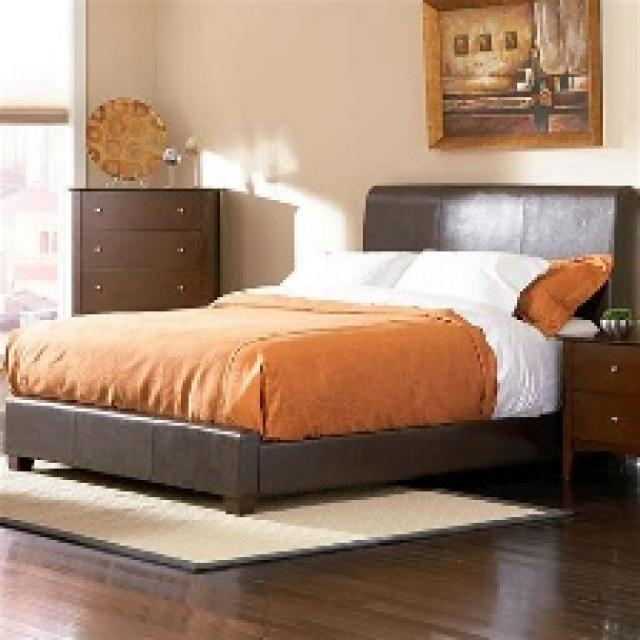Bed: (0, 183, 637, 514)
